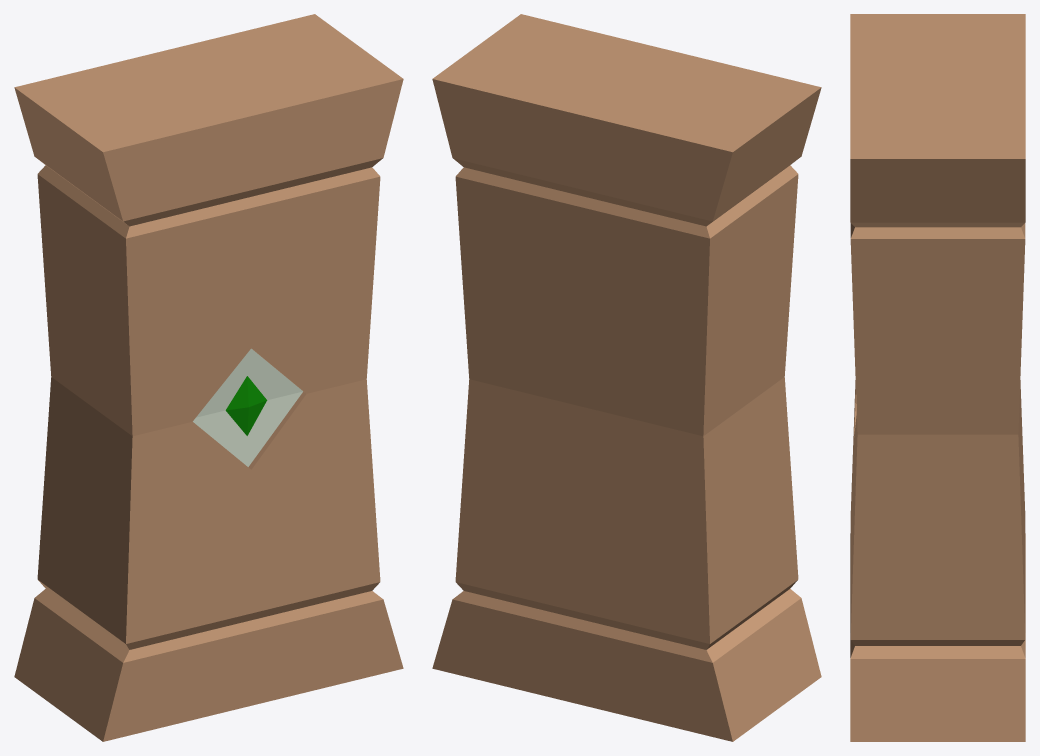
The model's file is collectible2.fbx.
The picture shows the model from 3 angles, left to right: view 1: azimuth 30°, elevation 25°; view 2: azimuth 150°, elevation 25°; view 3: azimuth 270°, elevation 25°; orthographic projection.
Visible parts, largest first — view 1: 2nd collectible; view 2: 2nd collectible; view 3: 2nd collectible.
Boxes of the visible parts, box(x1,y1,x2,y2) form: 2nd collectible: box(14, 14, 403, 741); 2nd collectible: box(432, 14, 821, 741); 2nd collectible: box(850, 14, 1025, 741).
Bounding box in the file's own units: 235 × 441 × 120.
